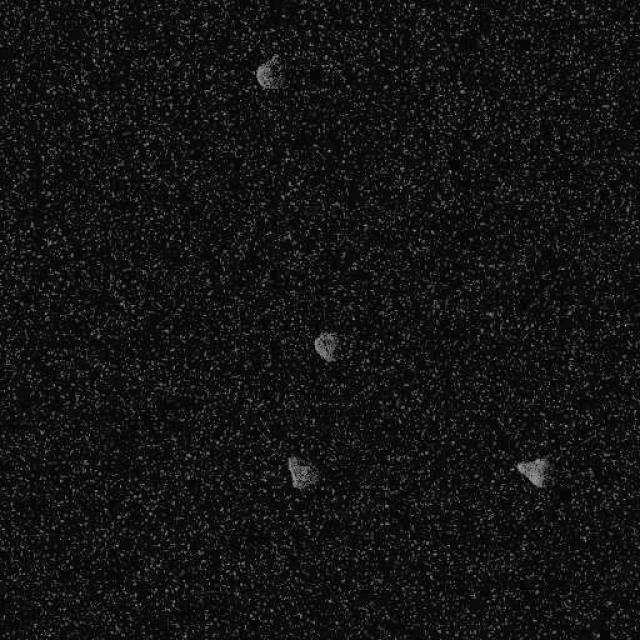D2: (255, 52, 285, 92), (515, 455, 550, 489), (286, 454, 319, 490), (312, 330, 338, 362)
